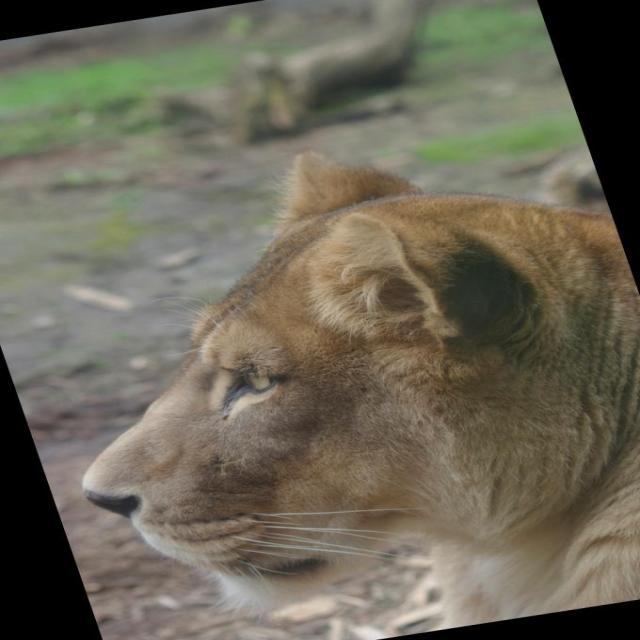Lion: (0, 110, 639, 639)
